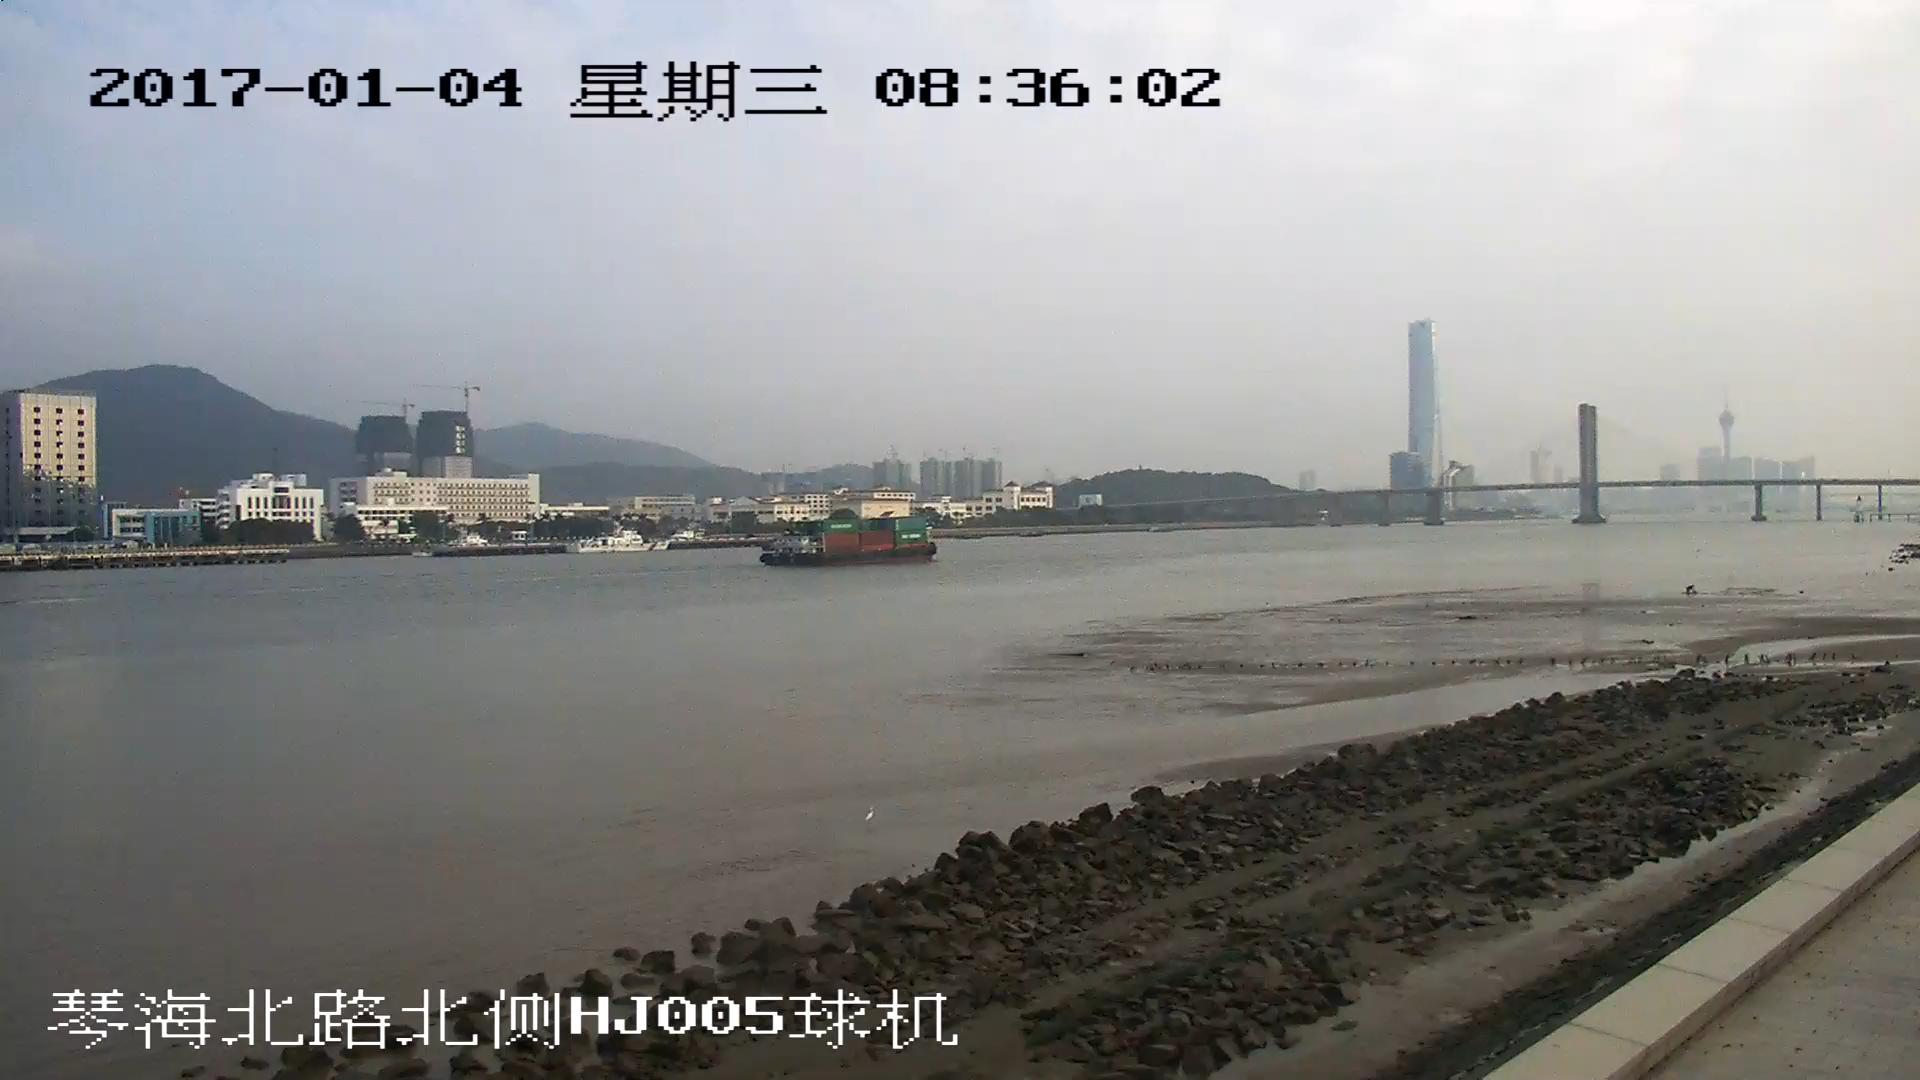Ship: (762, 520, 939, 567)
